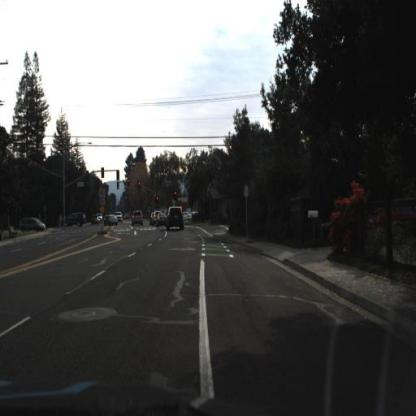car: (165, 205, 185, 235), (21, 215, 48, 236), (63, 211, 85, 230), (132, 210, 144, 228), (104, 215, 119, 228)
trafficLight-Red: (175, 190, 180, 203), (156, 194, 161, 207), (127, 178, 132, 191), (138, 181, 142, 193)
